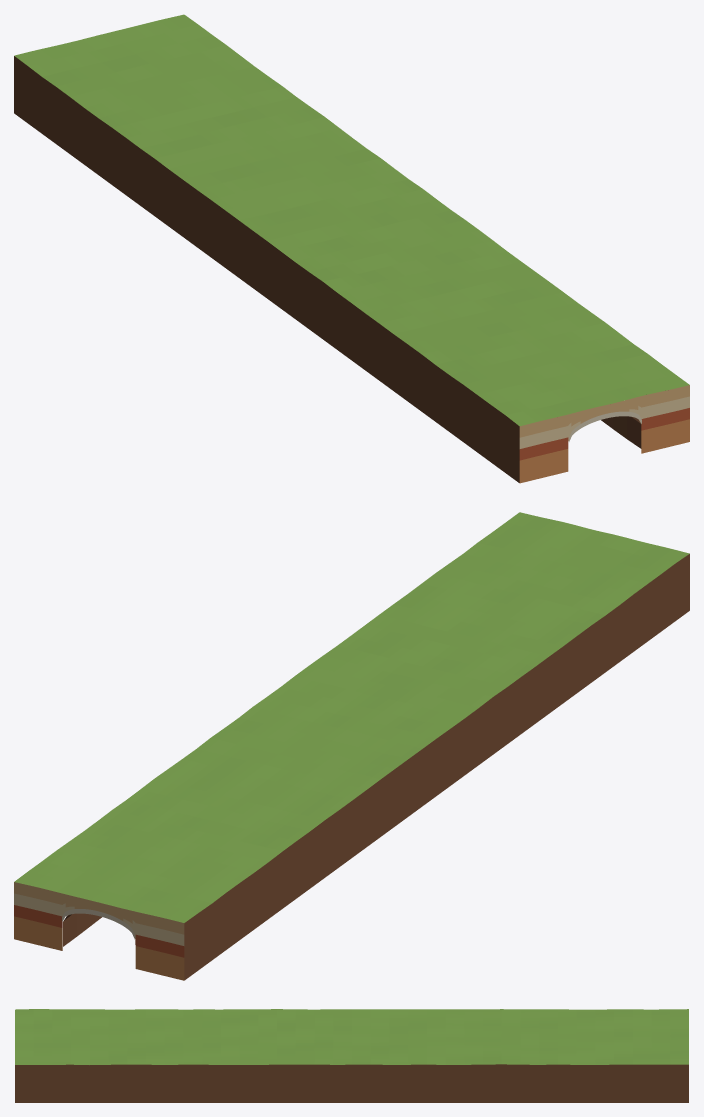
The model's file is tunel_f2.glb.
The picture shows the model from 3 angles, top to bottom: view 1: azimuth 30°, elevation 25°; view 2: azimuth 150°, elevation 25°; view 3: azimuth 270°, elevation 25°; orthographic projection. The views are drawn at different scales.
Parts seen in each view (by area): view 1: tunel_f2; view 2: tunel_f2; view 3: tunel_f2.
Boxes of the visible parts, left/top/right/bottom form: tunel_f2: left=14, top=14, right=689, bottom=483; tunel_f2: left=14, top=512, right=689, bottom=980; tunel_f2: left=15, top=1009, right=688, bottom=1102.
Bounding box in the file's own units: 84 × 27.28 × 433.
